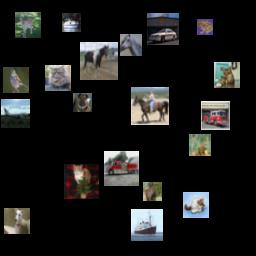airplane: (1, 99, 30, 128)
automobile: (147, 13, 179, 45)
bird: (3, 67, 29, 93)
cat: (64, 164, 99, 199), (214, 62, 240, 88), (45, 65, 71, 91), (183, 192, 209, 218)
deer: (15, 12, 41, 38), (189, 134, 211, 156)
dog: (4, 208, 30, 234), (73, 93, 92, 112)
frog: (197, 19, 213, 35)
ship: (131, 209, 163, 241), (62, 13, 81, 32)
truck: (104, 151, 139, 186), (201, 101, 230, 130)
